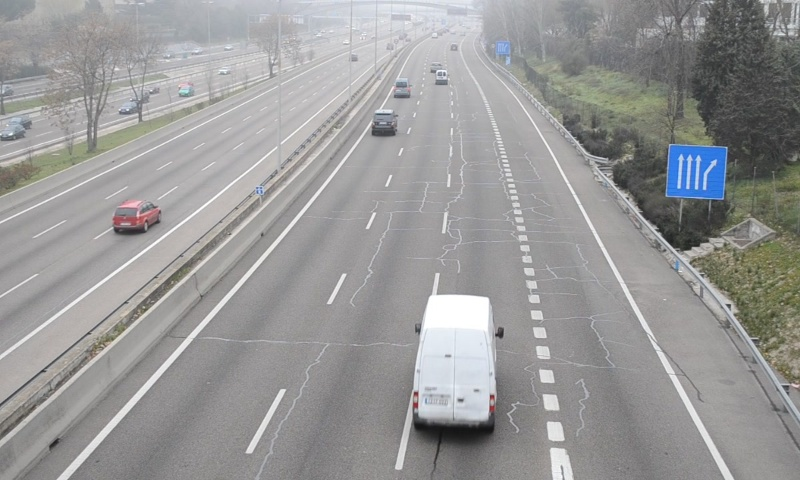car: (371, 110, 396, 134)
van: (410, 295, 496, 434), (392, 78, 410, 99)
